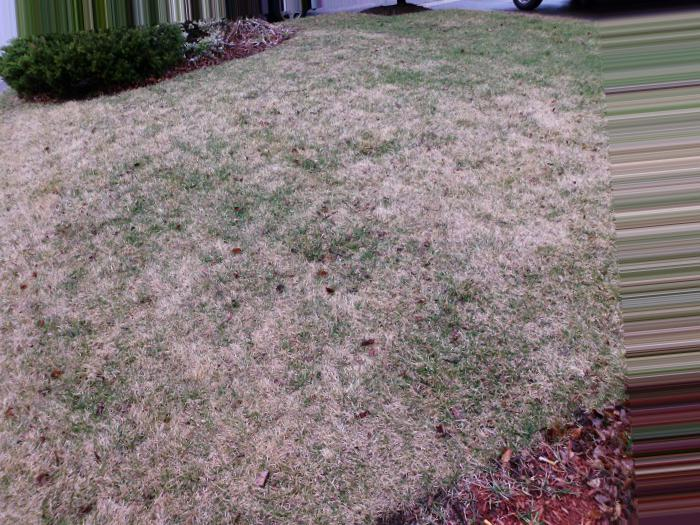patch: (10, 124, 248, 522), (271, 95, 592, 248), (223, 312, 344, 520), (329, 256, 403, 480)
